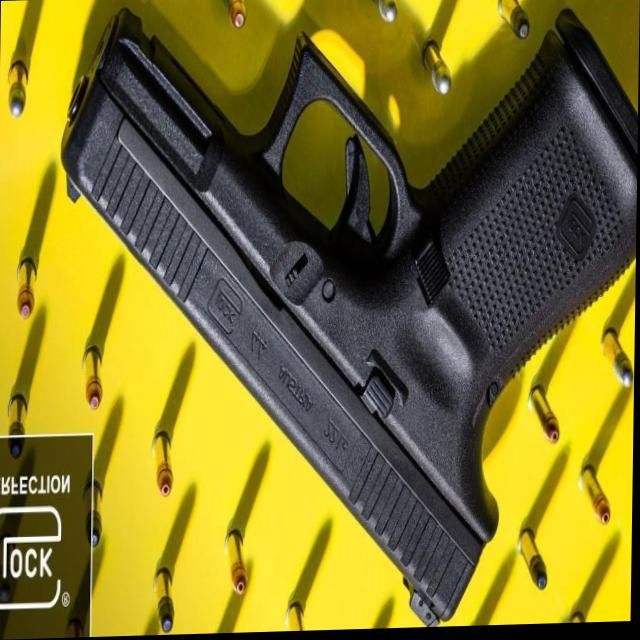handgun: (50, 10, 639, 639)
